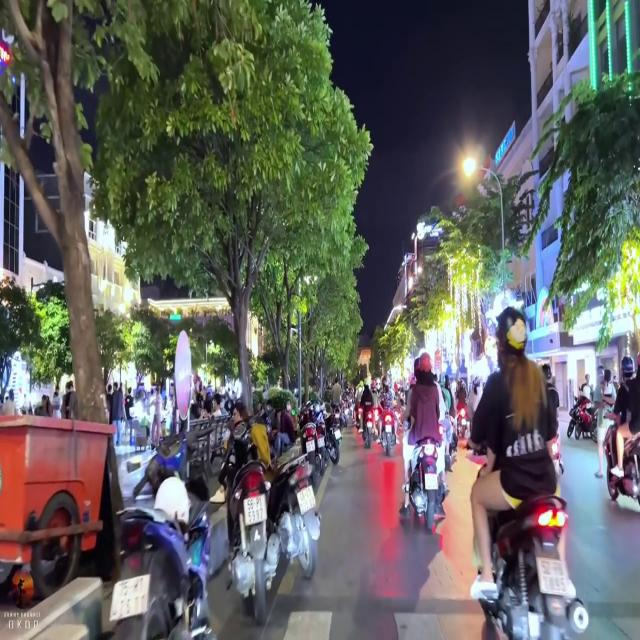bien_trang: (105, 578, 151, 626)
